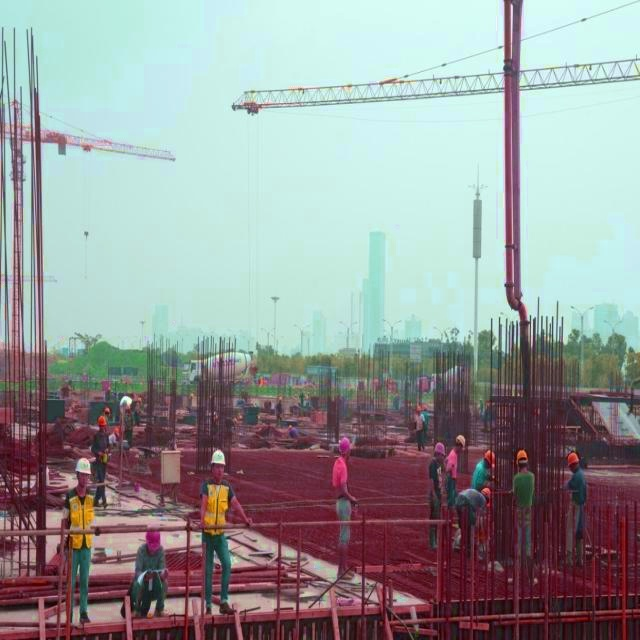Con_Casco: (75, 456, 92, 485), (211, 448, 226, 478)
Con_Chaleco: (202, 482, 233, 535), (66, 492, 94, 549)
